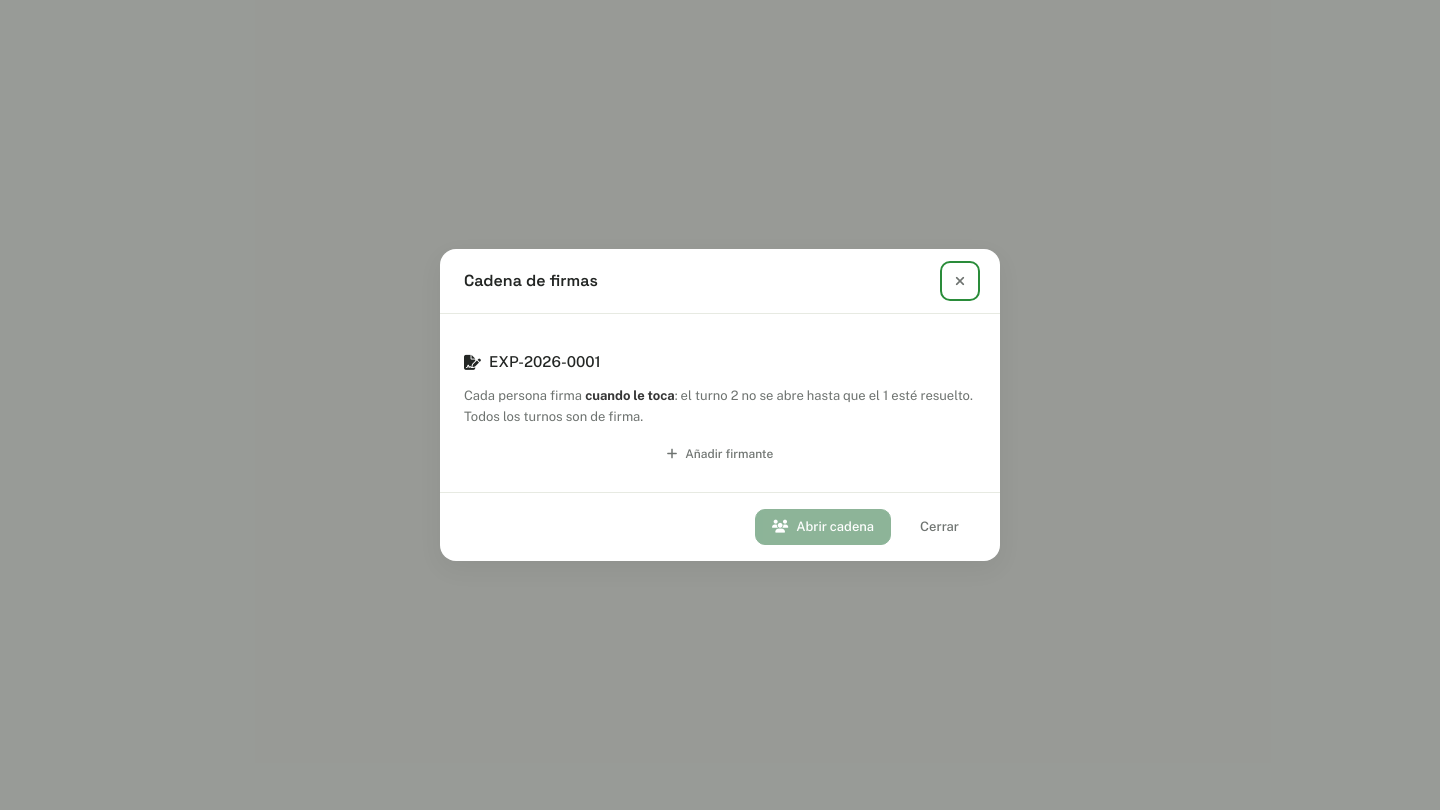
Test: CadenaFirmaModal › no deja abrirla con la misma persona dos veces
The width and height of the screenshot is (1440, 810).
expect the text "cuando le toca" is shown: met, box [585,388,675,403]
Click the button named "Añadir firmante" below "Cada persona firma" at (720, 454), box [464,440,976,468]
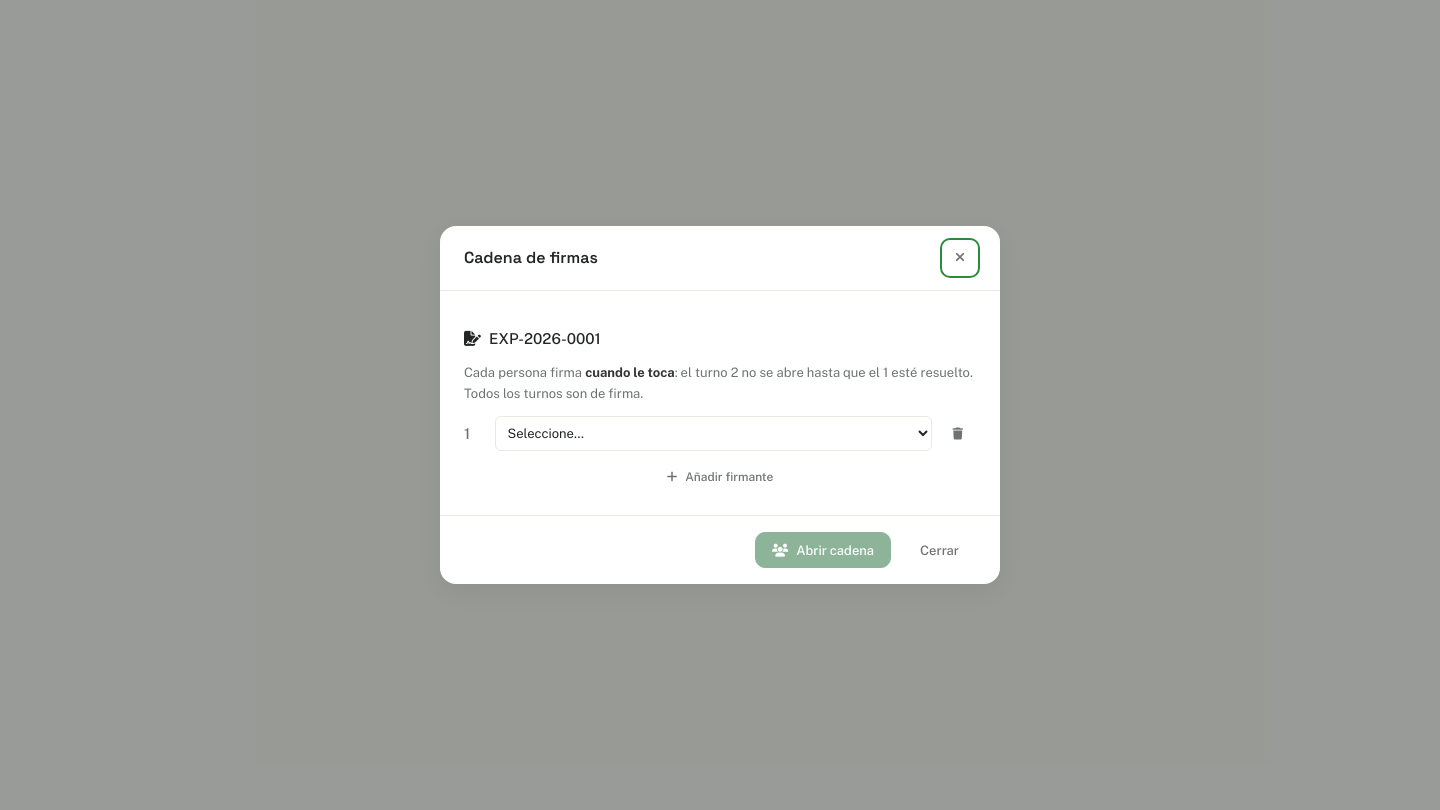
Select "Ana Restrepo" in the dropdown named "Firmante del turno 1" at (713, 434), box [494,416,932,451]
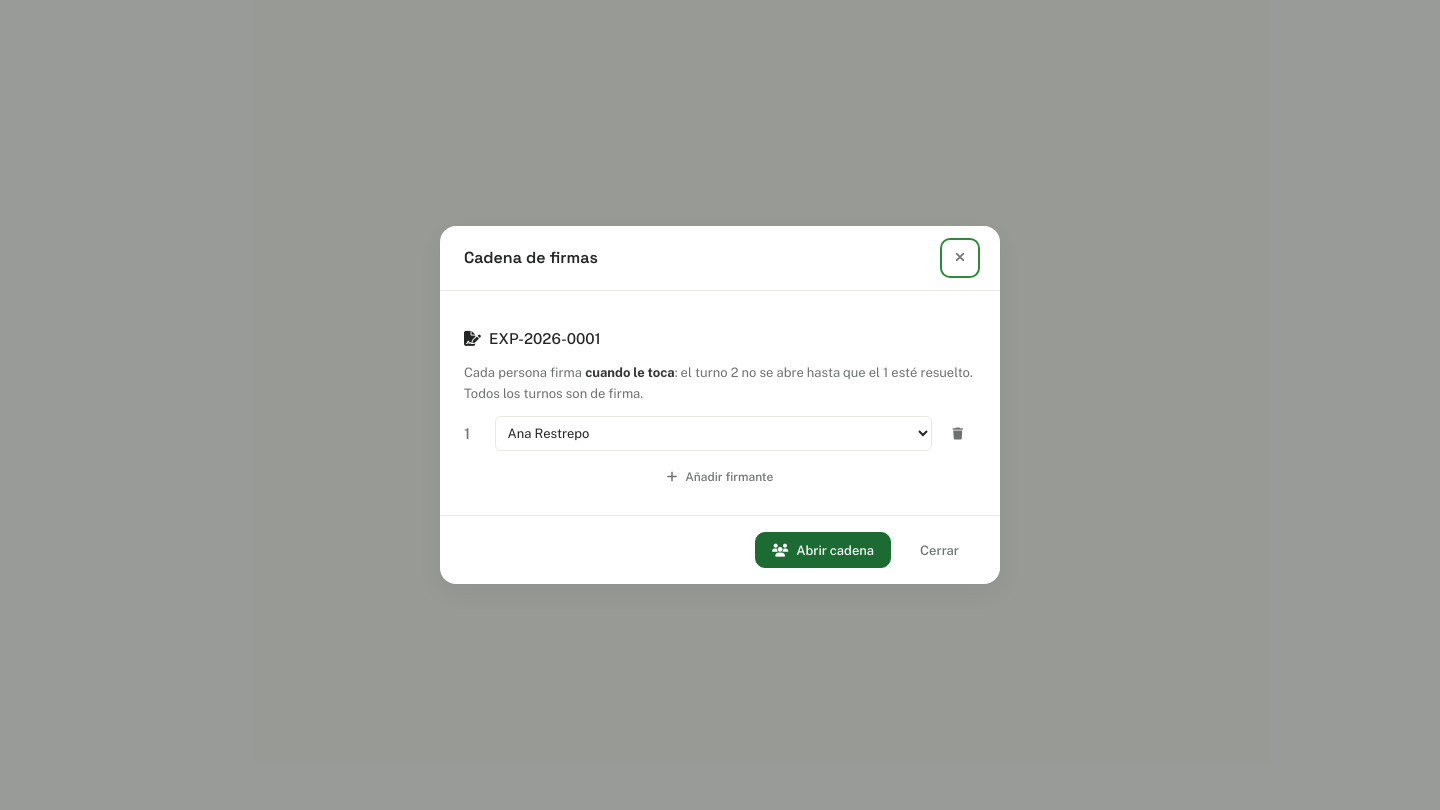
Click the 2nd button named "Añadir firmante" at (720, 477), box [464,463,976,491]
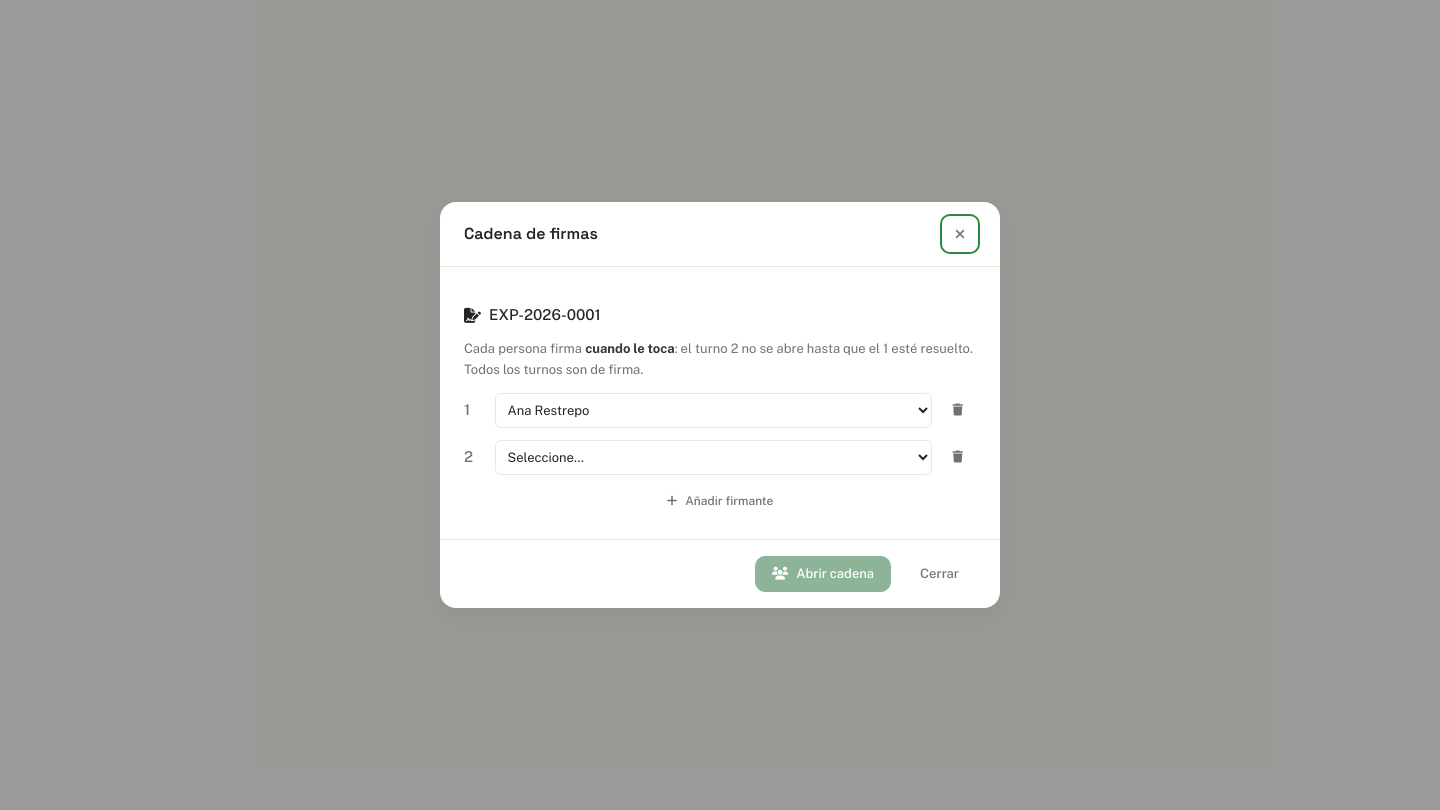
Select "Ana Restrepo" in the dropdown named "Firmante del turno 2" at (713, 457), box [494,440,932,475]
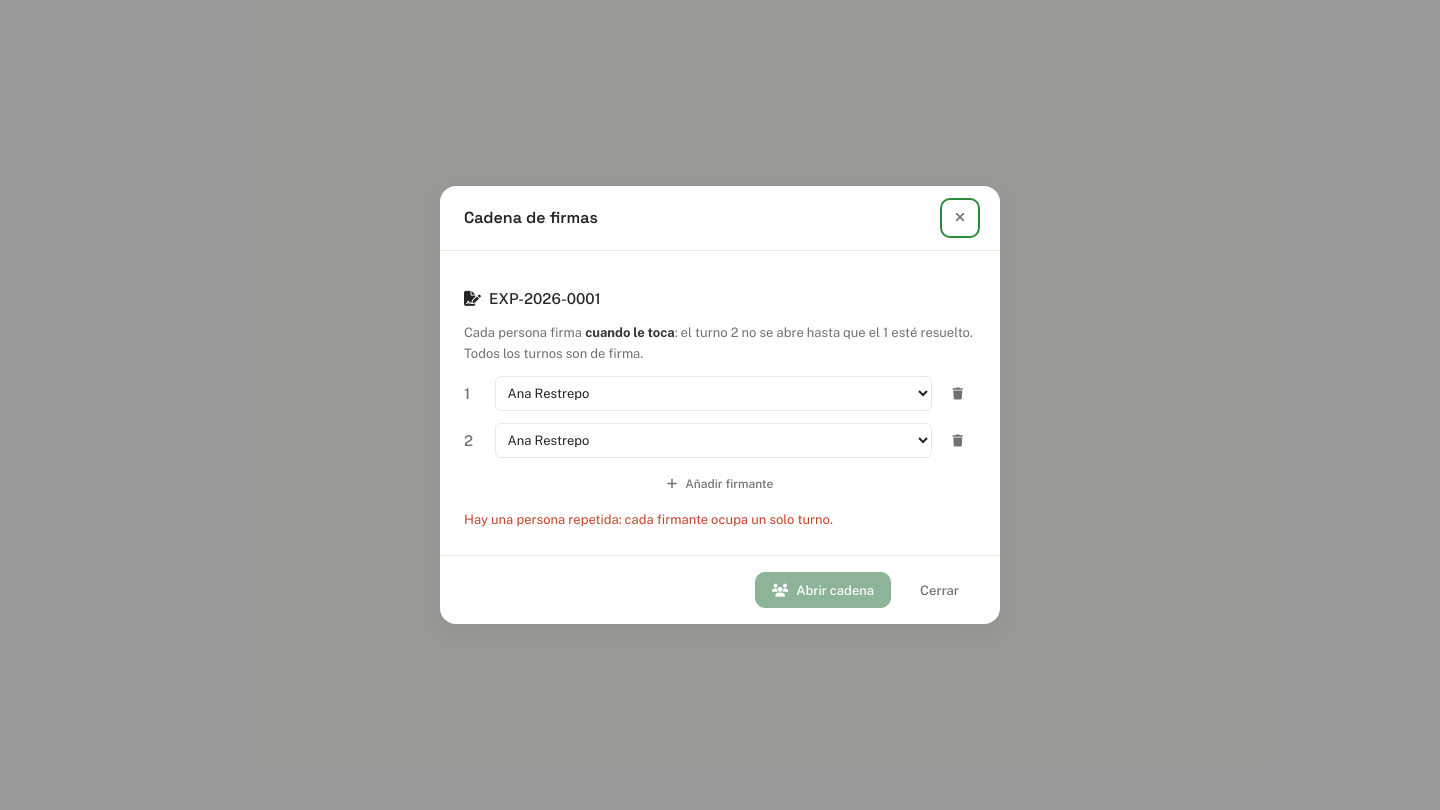
expect the 4th button named "Abrir cadena" is disabled: met, box [755,572,891,608]
expect the text "Hay una persona repetida: cada firmante ocupa un solo turno." is shown: met, box [464,512,833,527]
